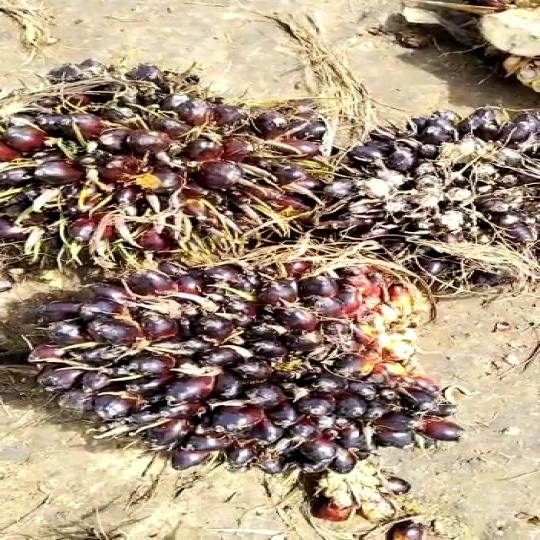mentah: (40, 264, 473, 484), (0, 57, 336, 297), (320, 103, 540, 315)
